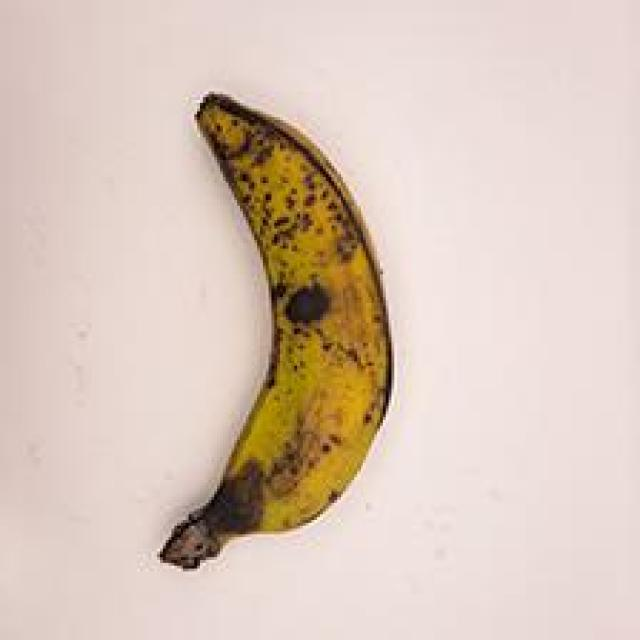Overripe: (98, 73, 420, 579)
